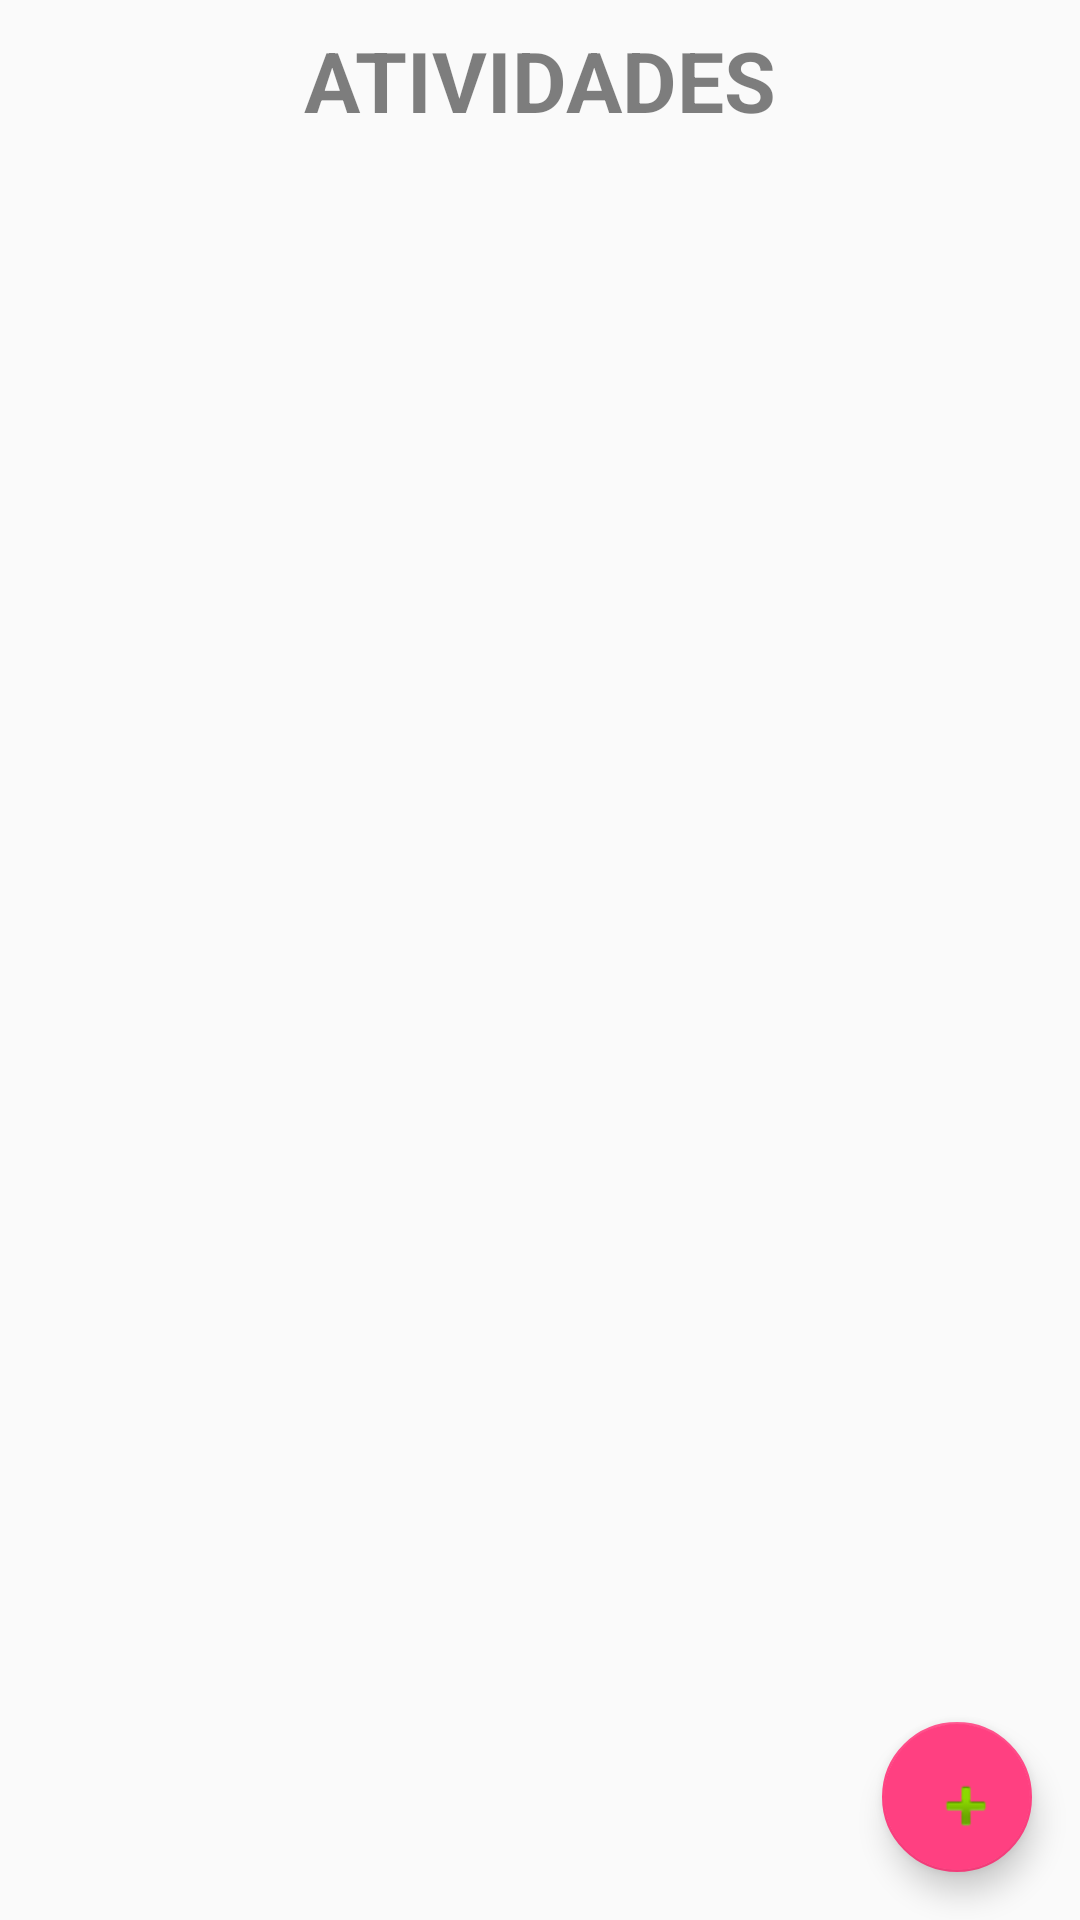

Screen size 1080×1920. Icon name, then its box in pixels as rect(x1, y1, x2, y2):
add: rect(882, 1722, 1032, 1872)
